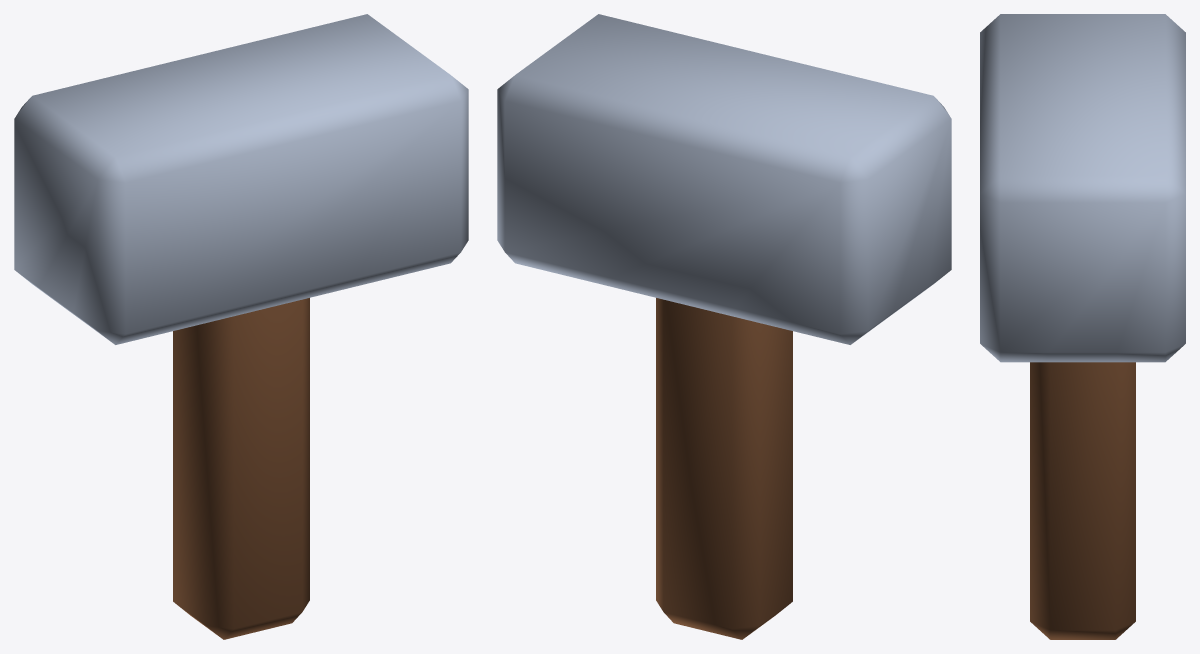
File: Hammer.fbx
The picture shows the model from 3 angles, left to right: view 1: azimuth 30°, elevation 25°; view 2: azimuth 150°, elevation 25°; view 3: azimuth 270°, elevation 25°; orthographic projection.
Visible parts, largest first — view 1: Cube.578; view 2: Cube.578; view 3: Cube.578.
Boxes of the visible parts, bbox=[...] form: Cube.578: bbox=[14, 14, 468, 639]; Cube.578: bbox=[497, 14, 951, 639]; Cube.578: bbox=[980, 14, 1185, 639].
Size of the model in its own units: 14.42 by 19.85 by 7.
